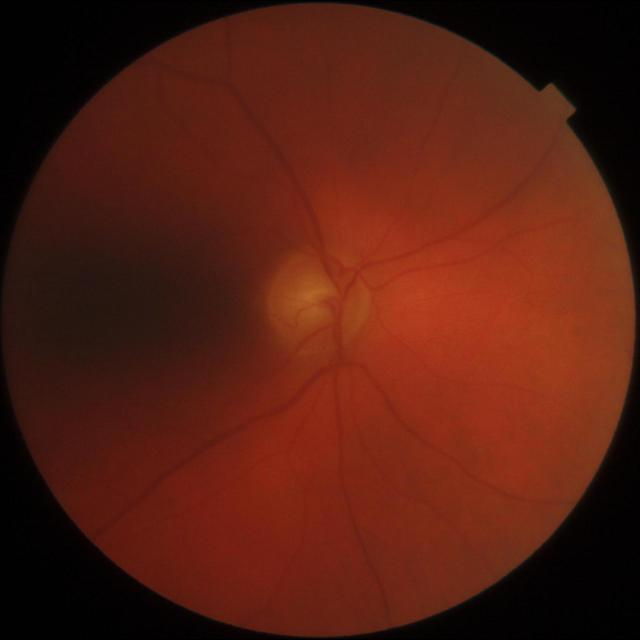OC: (298, 284, 338, 316)
OD: (264, 254, 370, 356)
